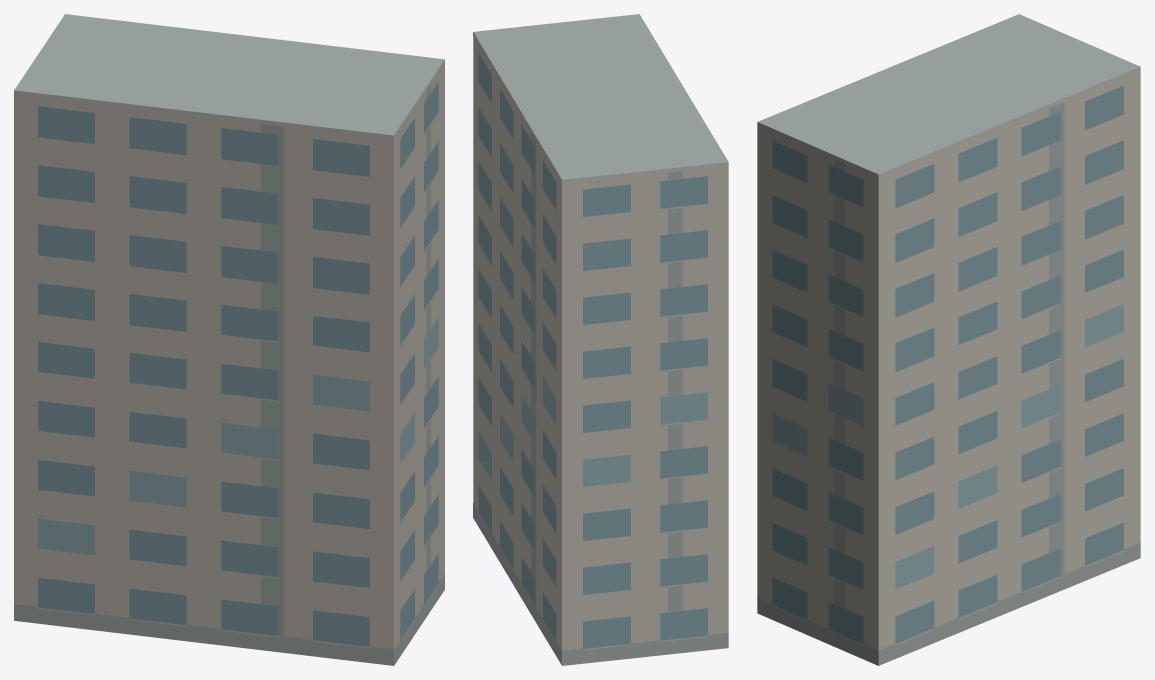
Rendered from residential-12208a70-40e4-483e-808d-8cd72d6a1eda.glb.
3 renders of one model, left to right at view 1: azimuth 30°, elevation 25°; view 2: azimuth 150°, elevation 25°; view 3: azimuth 270°, elevation 25°, orthographic. The views are drawn at different scales.
Visible parts, largest first — view 1: residential-12208a70-40e4-483e-808d-8cd72d6a1eda.tmp; view 2: residential-12208a70-40e4-483e-808d-8cd72d6a1eda.tmp; view 3: residential-12208a70-40e4-483e-808d-8cd72d6a1eda.tmp.
Boxes of the visible parts, box(x1,y1,x2,y2) form: residential-12208a70-40e4-483e-808d-8cd72d6a1eda.tmp: box(14, 14, 444, 665); residential-12208a70-40e4-483e-808d-8cd72d6a1eda.tmp: box(473, 14, 728, 665); residential-12208a70-40e4-483e-808d-8cd72d6a1eda.tmp: box(757, 14, 1140, 665).
Bounding box in the file's own units: 21.01 × 30 × 21.2.
